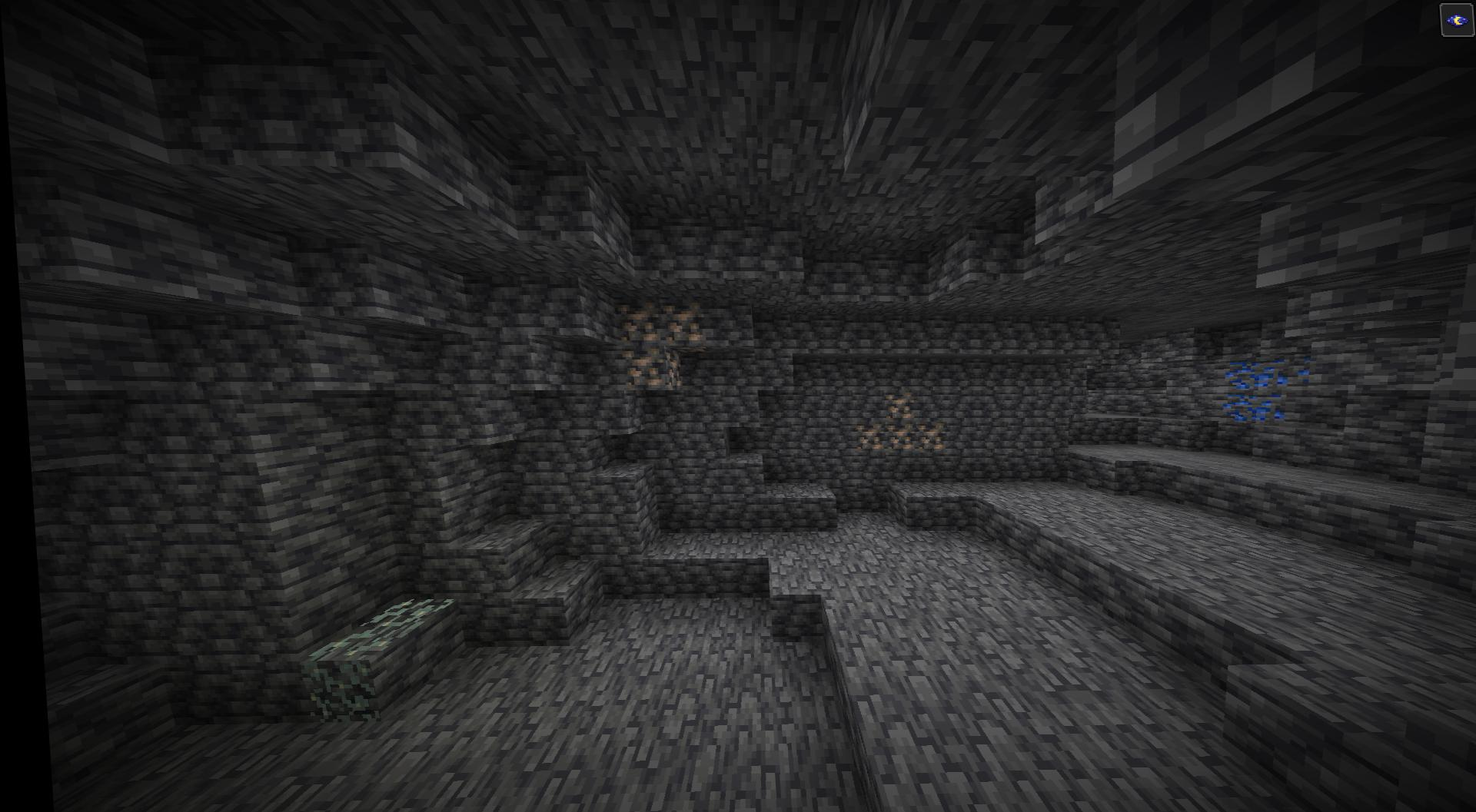iron ore: (614, 346, 681, 395), (609, 300, 662, 347), (655, 303, 704, 350), (836, 419, 875, 452), (905, 424, 941, 455), (873, 391, 909, 420), (878, 424, 911, 453)
